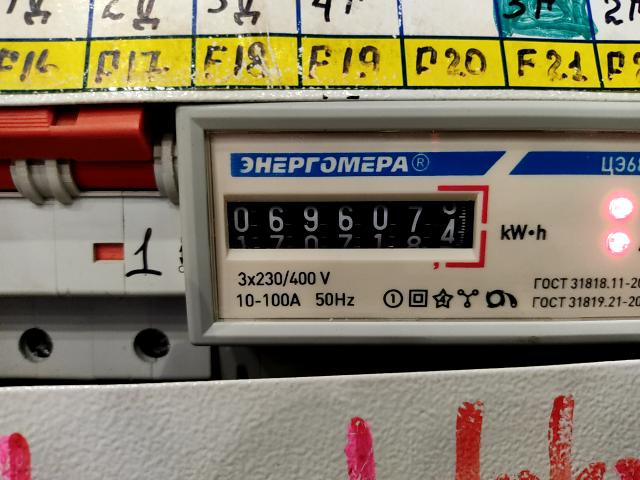0: (371, 202, 390, 232), (232, 205, 250, 233)
4: (440, 217, 456, 245)
6: (336, 204, 355, 233), (267, 204, 286, 232)
7: (407, 204, 424, 234)
9: (302, 205, 319, 233)
screen: (210, 178, 495, 267)
